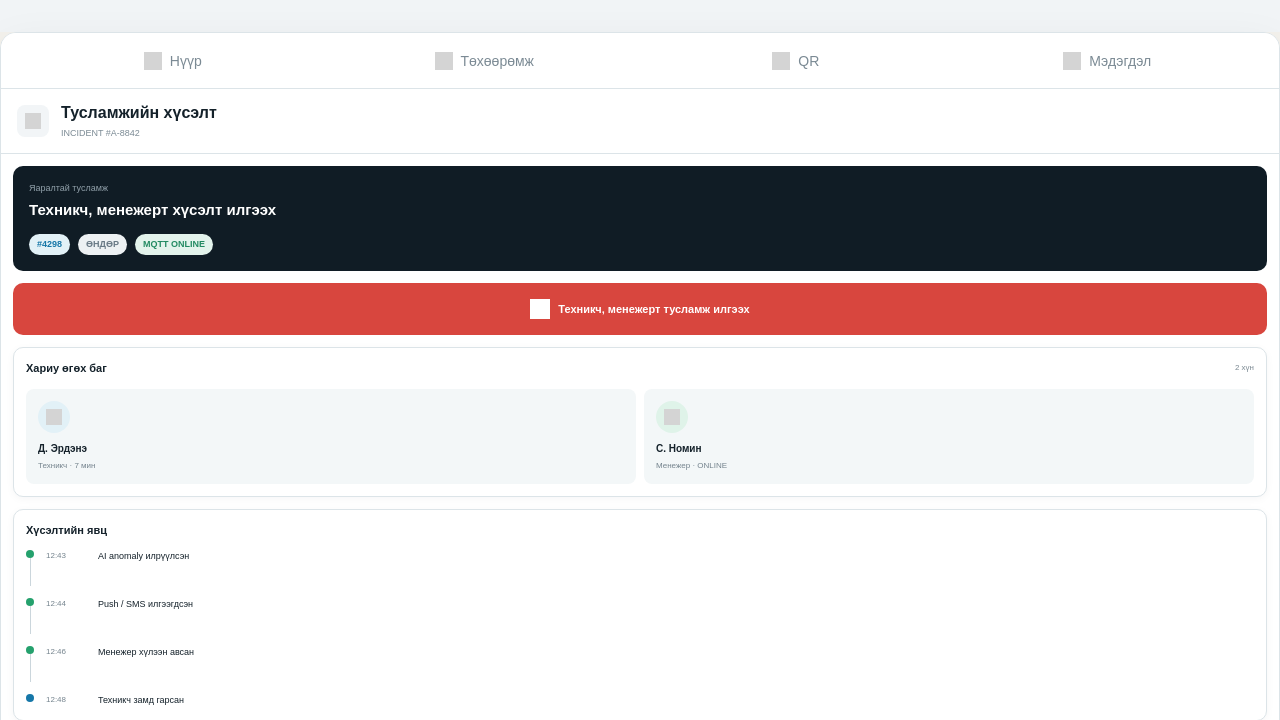
Test: MobileOpsApp screens › sends support requests and shows the success state
Click the button "Техникч, менежерт тусламж илгээх": (640, 309) [13,283,1267,335]
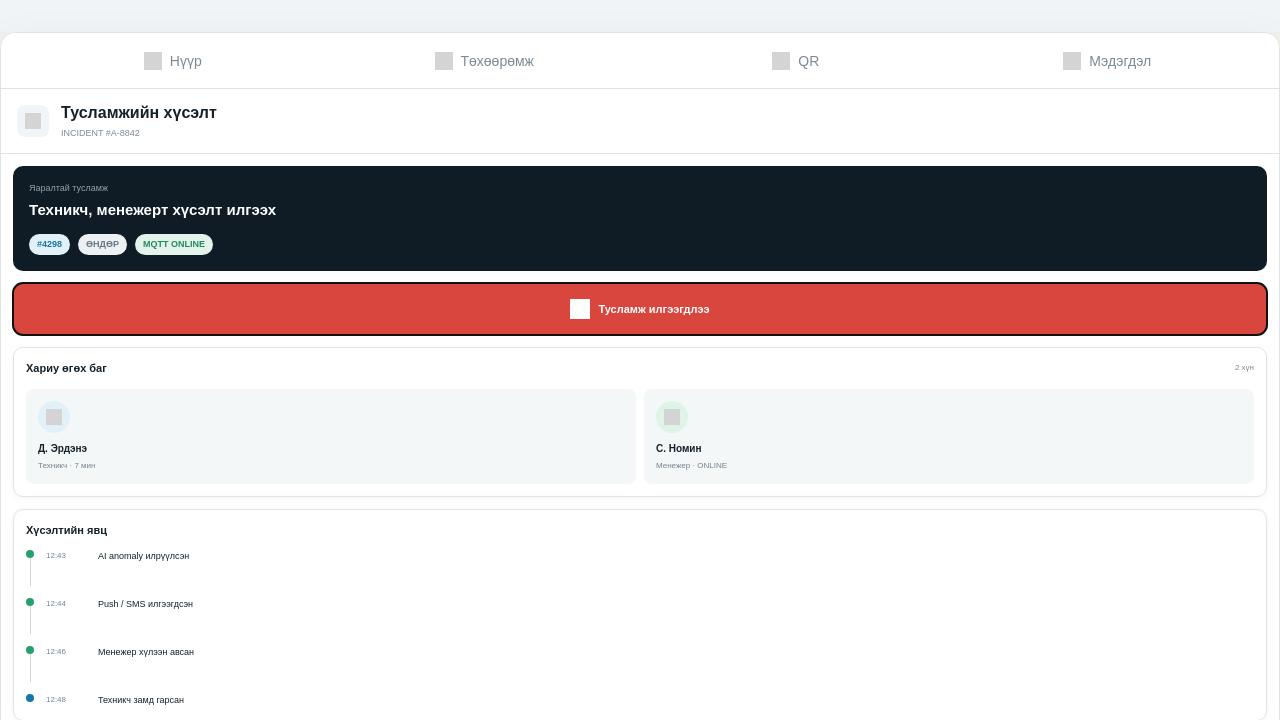
Result: the button "Тусламж илгээгдлээ" is shown at [13,283,1267,335]
